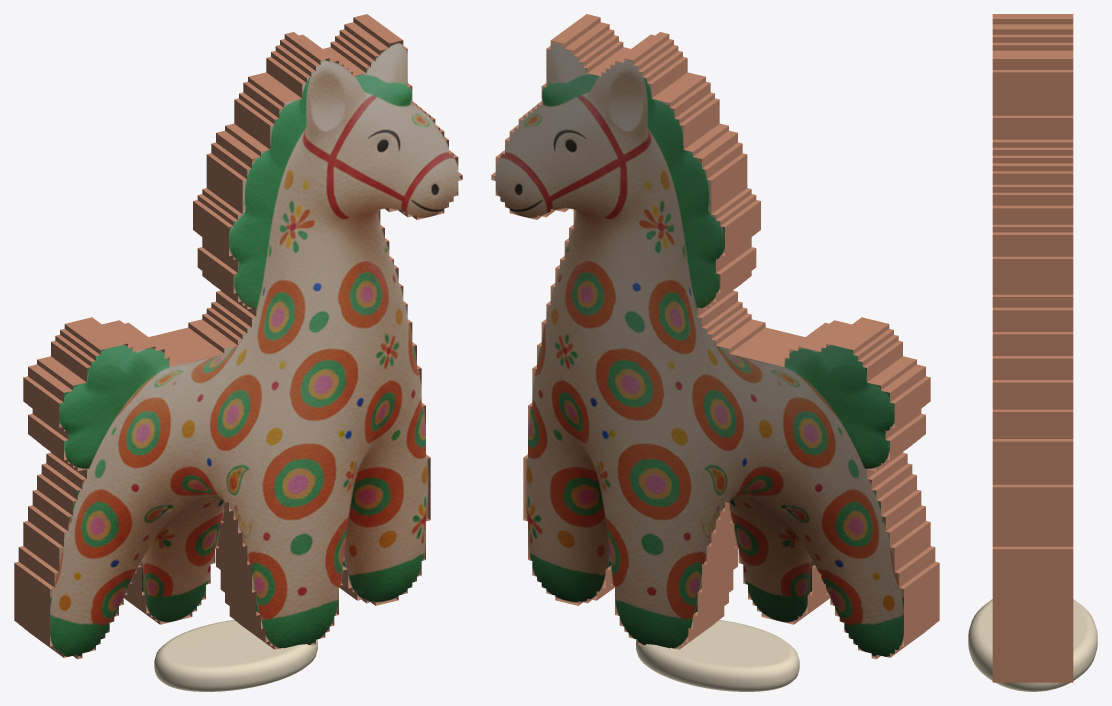
Rendered from ar-horse.glb.
3 views of the same model, side by side, from view 1: azimuth 30°, elevation 25°; view 2: azimuth 150°, elevation 25°; view 3: azimuth 270°, elevation 25° (orthographic). The views are drawn at different scales.
Parts seen in each view (by area): view 1: ToyArtworkSilhouette, SmallRoundedDisplayFoot; view 2: ToyArtworkSilhouette, SmallRoundedDisplayFoot; view 3: ToyArtworkSilhouette, SmallRoundedDisplayFoot.
Part boxes in pixels (box(x1,y1,x2,y2)): ToyArtworkSilhouette: box(14, 14, 462, 659); SmallRoundedDisplayFoot: box(154, 620, 317, 691); ToyArtworkSilhouette: box(491, 14, 939, 659); SmallRoundedDisplayFoot: box(636, 620, 799, 691); ToyArtworkSilhouette: box(992, 14, 1073, 682); SmallRoundedDisplayFoot: box(968, 599, 1097, 691).
Bounding box in the file's own units: 0.14 × 0.1957 × 0.034.
Materials: 3 (1 with a texture image).
